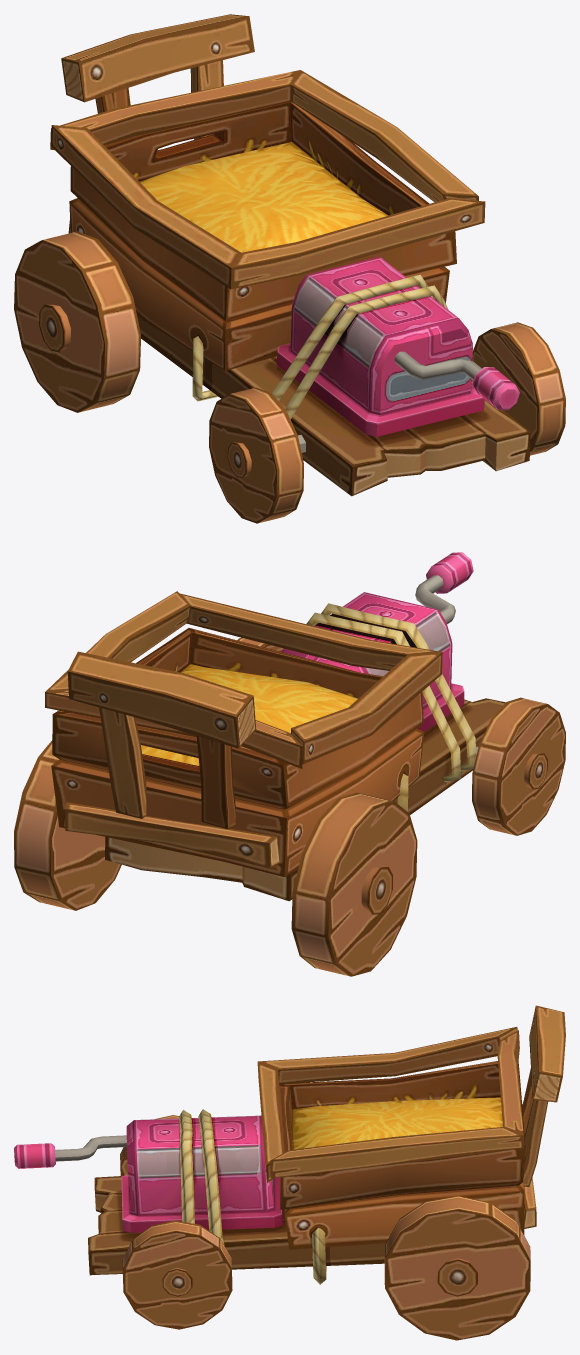
The model's file is musicmaker.fbx.
3 renders of one model, top to bottom at view 1: azimuth 30°, elevation 25°; view 2: azimuth 150°, elevation 25°; view 3: azimuth 270°, elevation 25°, orthographic. The views are drawn at different scales.
Parts seen in each view (by area): view 1: mesh_36_296.nr_mesh_36_296.nr.001, mesh_36_297.nr_mesh_36_297.nr.001, mesh_36_302.nr, mesh_34_294.nr, mesh_36_301.nr, mesh_36_300.nr, mesh_36_298.nr_mesh_36_298.nr.001, mesh_36_299.nr; view 2: mesh_36_296.nr_mesh_36_296.nr.001, mesh_36_302.nr, mesh_34_294.nr, mesh_36_301.nr, mesh_36_303.nr, mesh_36_297.nr_mesh_36_297.nr.001, mesh_36_298.nr_mesh_36_298.nr.001, mesh_36_299.nr; view 3: mesh_36_296.nr_mesh_36_296.nr.001, mesh_36_303.nr, mesh_36_297.nr_mesh_36_297.nr.001, mesh_36_300.nr, mesh_34_294.nr, mesh_36_298.nr_mesh_36_298.nr.001, mesh_36_299.nr.
Boxes of the visible parts, <box> form: mesh_36_296.nr_mesh_36_296.nr.001: <box>50,70,530,496</box>; mesh_36_297.nr_mesh_36_297.nr.001: <box>276,257,484,452</box>; mesh_36_302.nr: <box>14,231,140,412</box>; mesh_34_294.nr: <box>61,14,254,139</box>; mesh_36_301.nr: <box>209,387,303,523</box>; mesh_36_300.nr: <box>472,322,565,455</box>; mesh_36_298.nr_mesh_36_298.nr.001: <box>472,367,519,410</box>; mesh_36_299.nr: <box>394,351,481,380</box>; mesh_36_296.nr_mesh_36_296.nr.001: <box>45,591,505,901</box>; mesh_36_302.nr: <box>291,792,417,976</box>; mesh_34_294.nr: <box>67,651,256,828</box>; mesh_36_301.nr: <box>472,697,565,835</box>; mesh_36_303.nr: <box>14,740,121,910</box>; mesh_36_297.nr_mesh_36_297.nr.001: <box>281,592,478,755</box>; mesh_36_298.nr_mesh_36_298.nr.001: <box>426,552,473,593</box>; mesh_36_299.nr: <box>415,575,455,624</box>; mesh_36_296.nr_mesh_36_296.nr.001: <box>88,1027,536,1284</box>; mesh_36_303.nr: <box>384,1195,530,1340</box>; mesh_36_297.nr_mesh_36_297.nr.001: <box>121,1115,282,1232</box>; mesh_36_300.nr: <box>122,1220,232,1329</box>; mesh_34_294.nr: <box>522,1005,565,1186</box>; mesh_36_298.nr_mesh_36_298.nr.001: <box>14,1143,55,1168</box>; mesh_36_299.nr: <box>55,1135,126,1161</box>.
Bounding box in the file's own units: 156 × 136 × 279.
